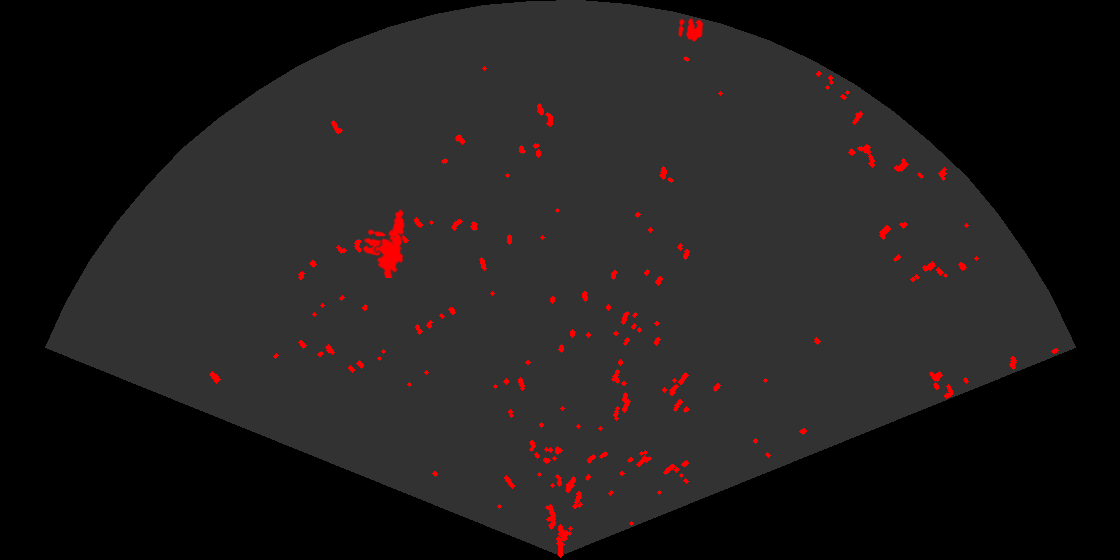ball: (677, 16, 705, 43), (361, 228, 387, 257)
frogman: (373, 208, 406, 278)
